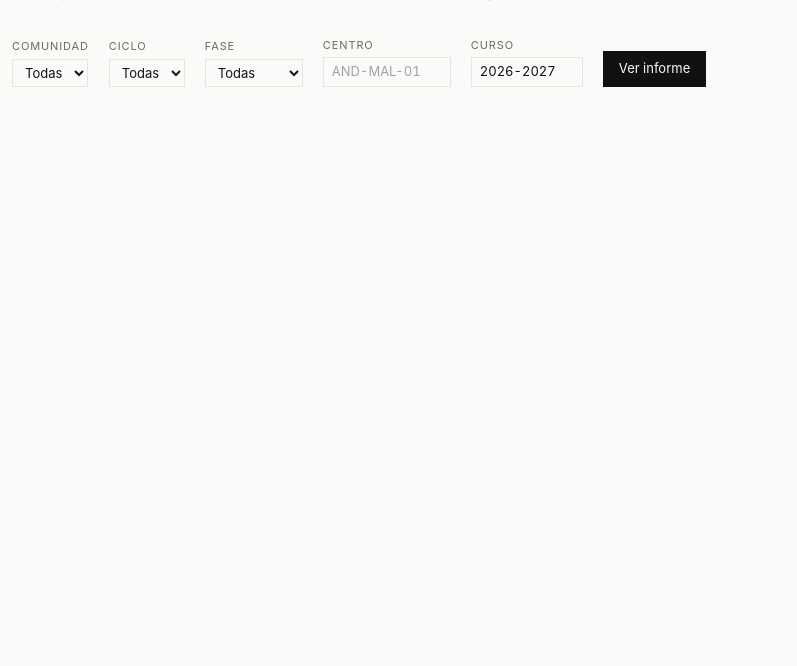
Test case: Informes › dice cuántos análisis no tienen coste calculable, sin inventarlo
The width and height of the screenshot is (797, 666).
Click the button "Ver informe". click: (654, 69)
box: [603,51,706,87]
(page scrolled)
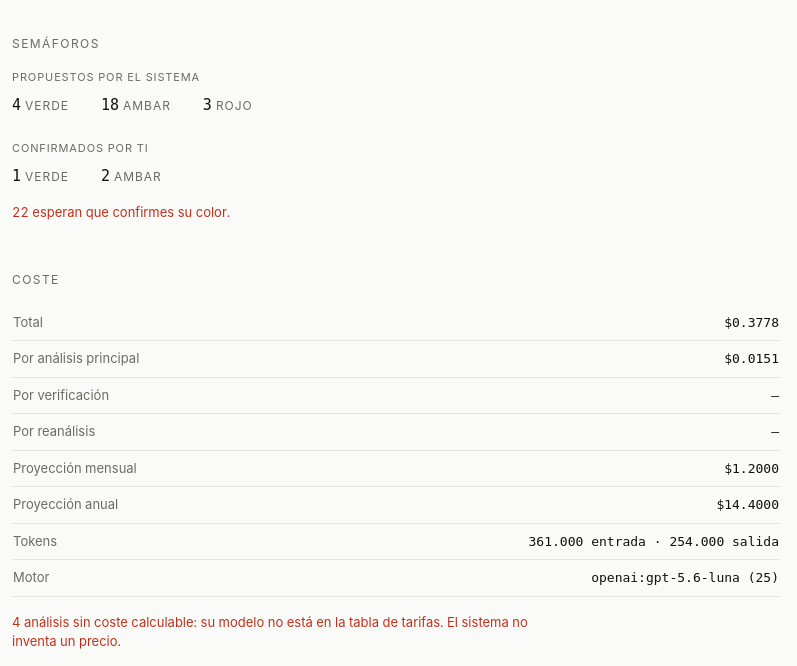
Check: the text "El sistema no inventa un precio" is shown, box [12,614,528,649]
